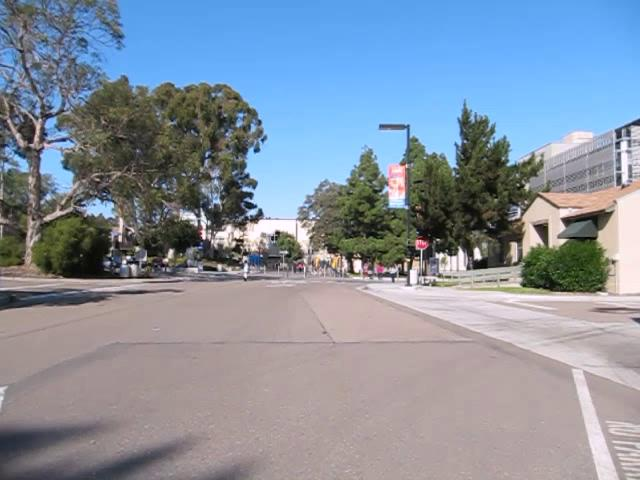stop: (414, 234, 430, 250)
